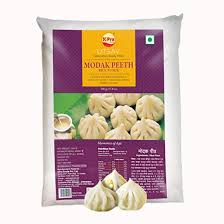modak: (86, 177, 118, 212), (118, 181, 147, 212), (136, 94, 168, 118), (79, 110, 106, 136), (135, 121, 164, 142), (111, 106, 141, 126)
